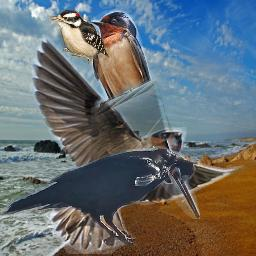Crow: (1, 146, 196, 247)
Swallow: (29, 35, 244, 254), (91, 10, 200, 219)
Woodpecker: (48, 10, 109, 64)
